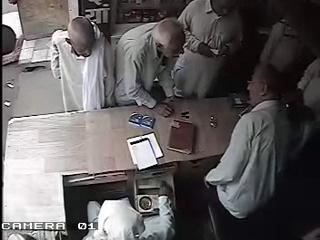Normal: (204, 63, 292, 240), (114, 17, 186, 118), (172, 0, 244, 100), (50, 16, 116, 112)
